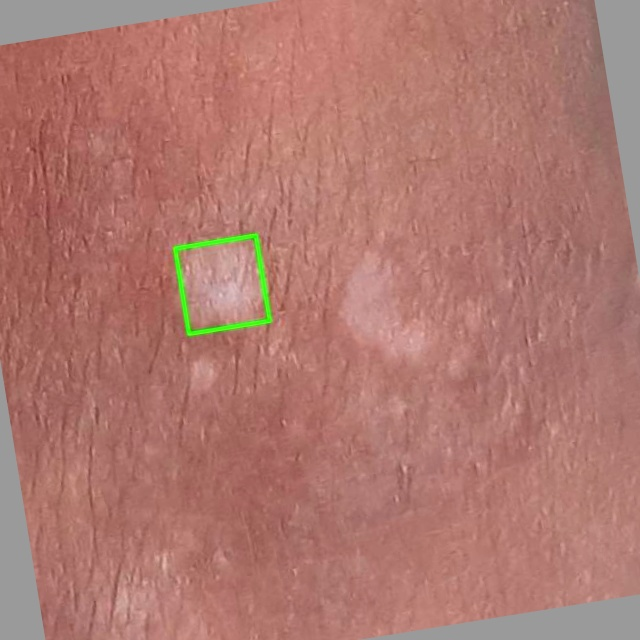Eczema: (175, 235, 269, 333)
